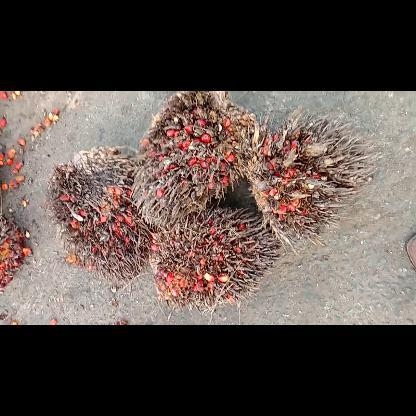Terlalu masak: (128, 91, 270, 231), (242, 109, 378, 253), (44, 144, 164, 284), (150, 200, 283, 314)
